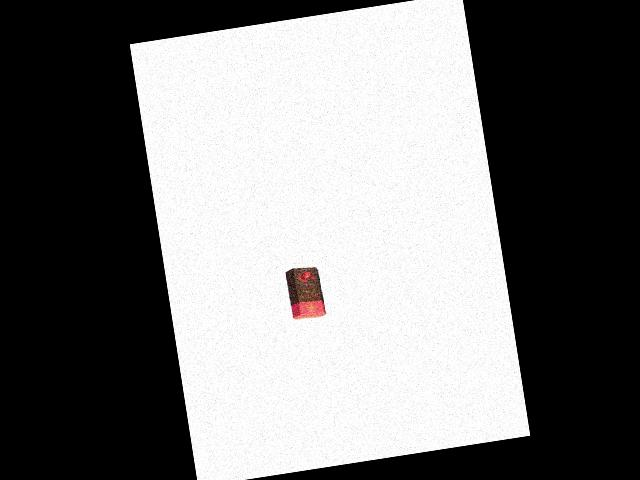chocolate: (283, 259, 327, 323)
